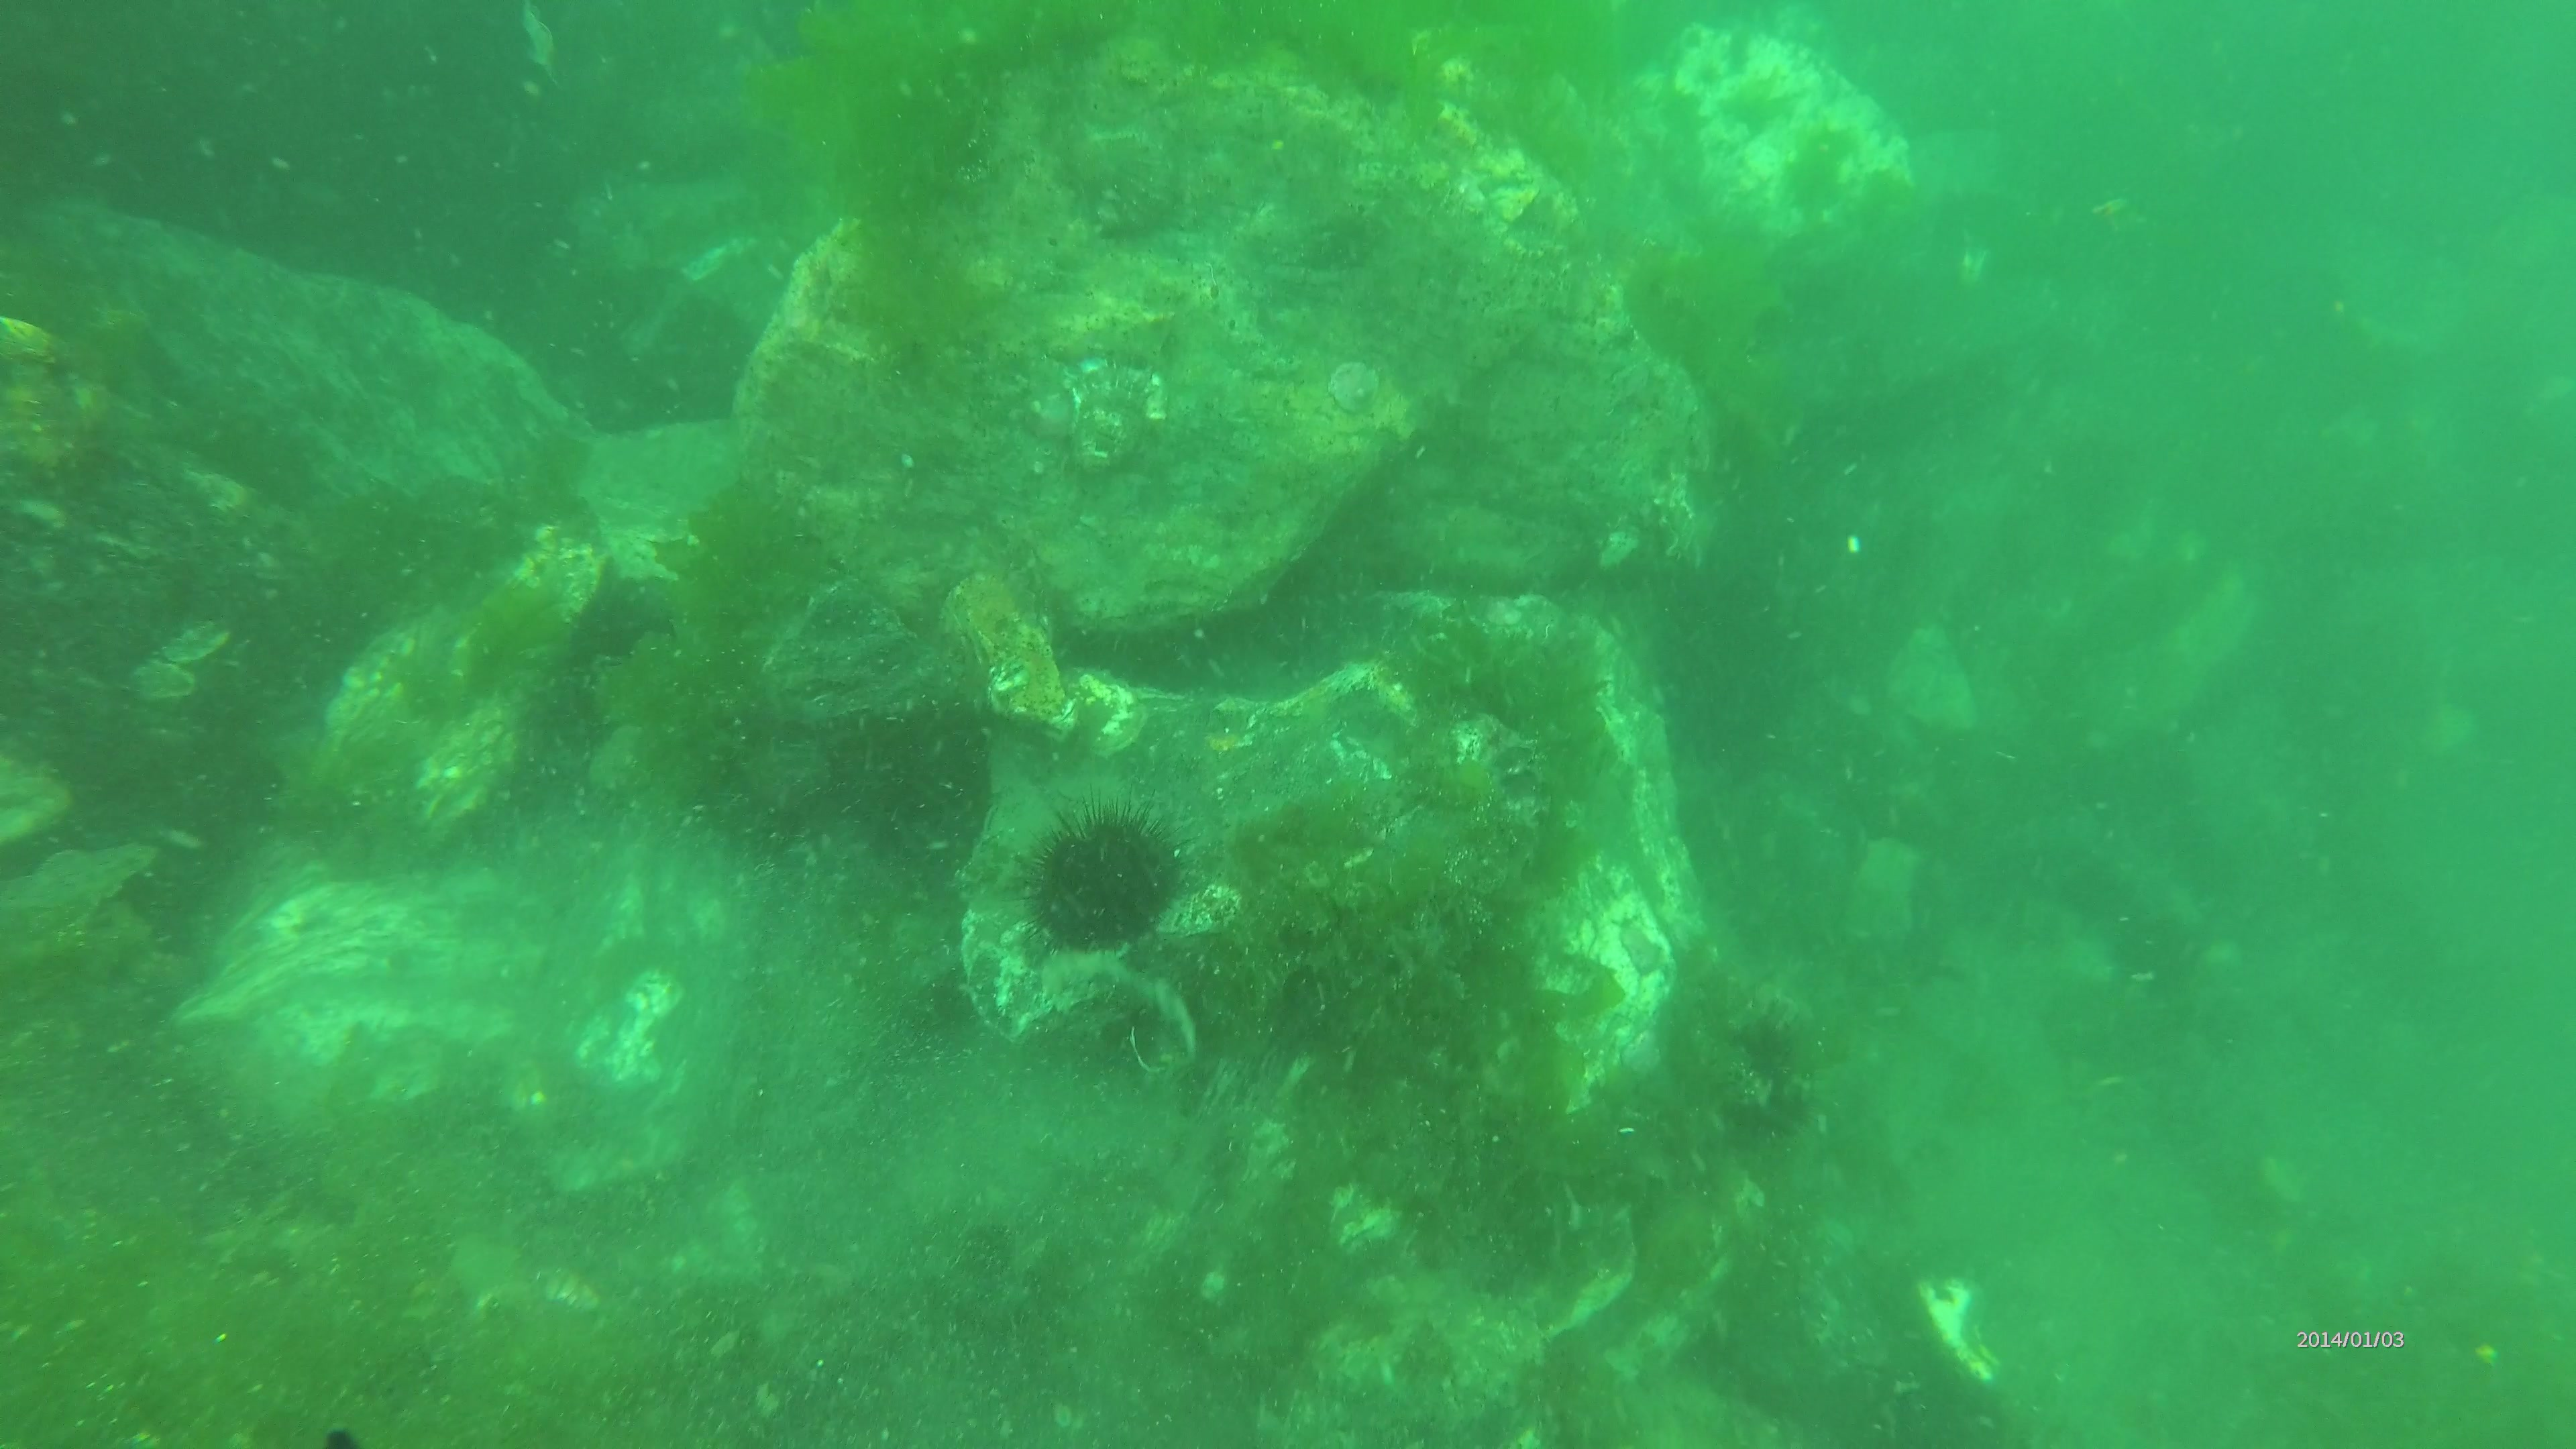echinus: (1012, 793, 1201, 961), (1714, 1010, 1822, 1139)
